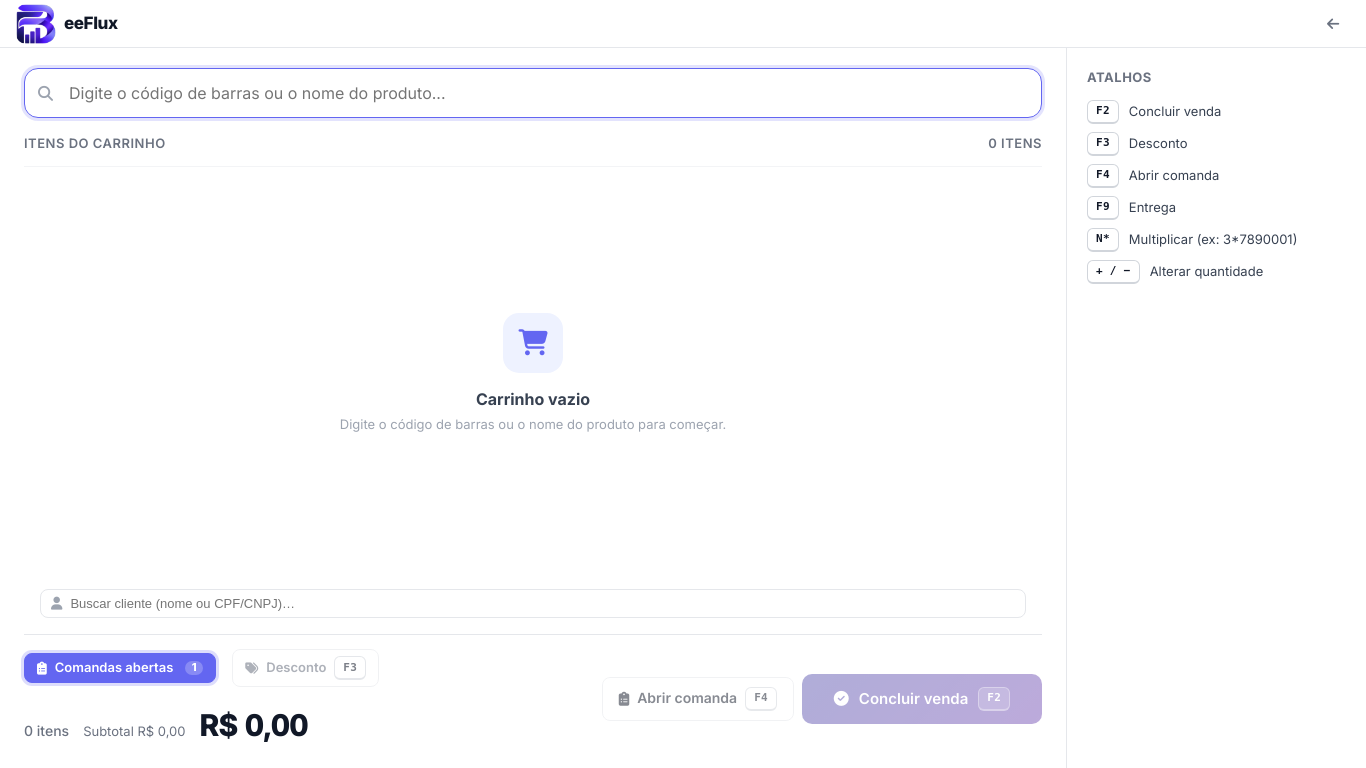
Test: PdvView — comandas abertas › seleciona comanda da lista e carrega os itens no carrinho
Click the button "Comandas abertas 1": click(120, 668) [24, 653, 216, 683]
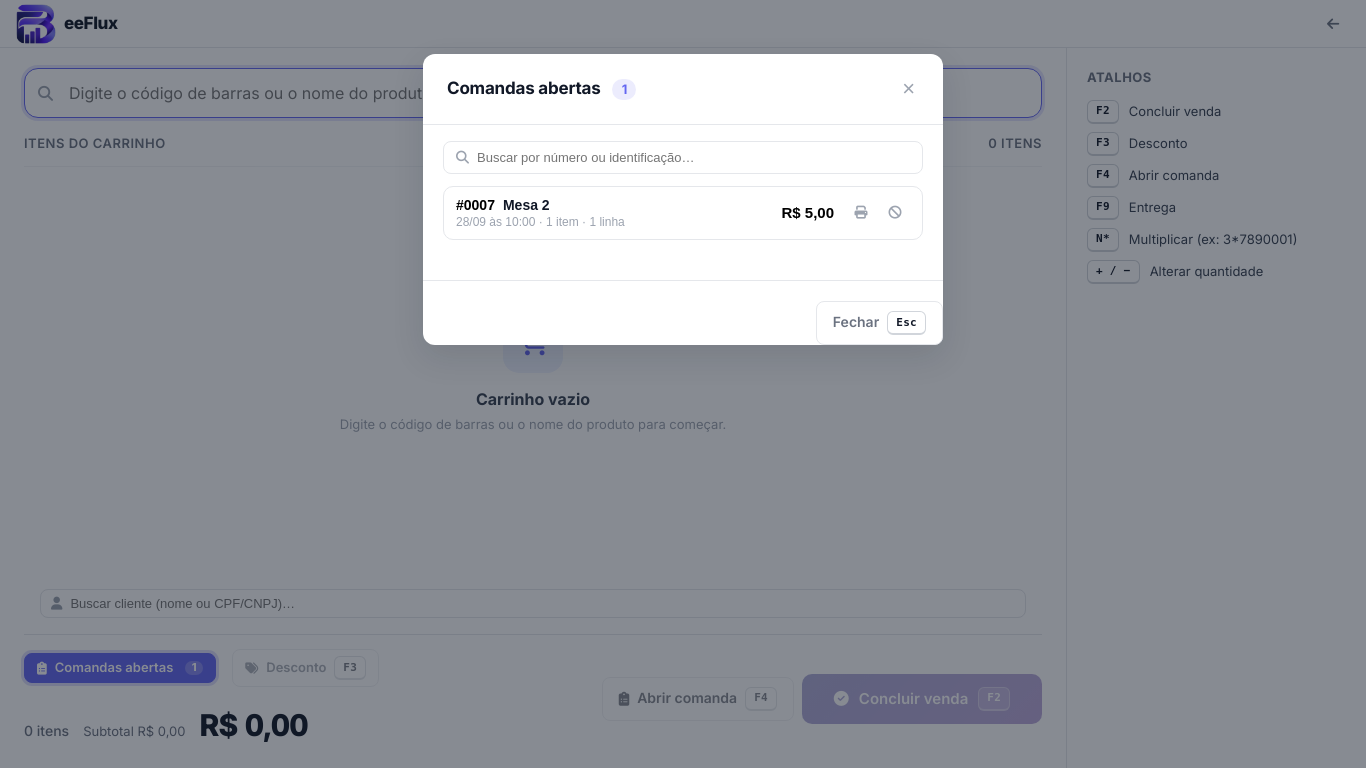
Expected: the number of buttons with class "tab-card" is 1
Click the button with class "tab-card": click(475, 205) [443, 186, 923, 240]
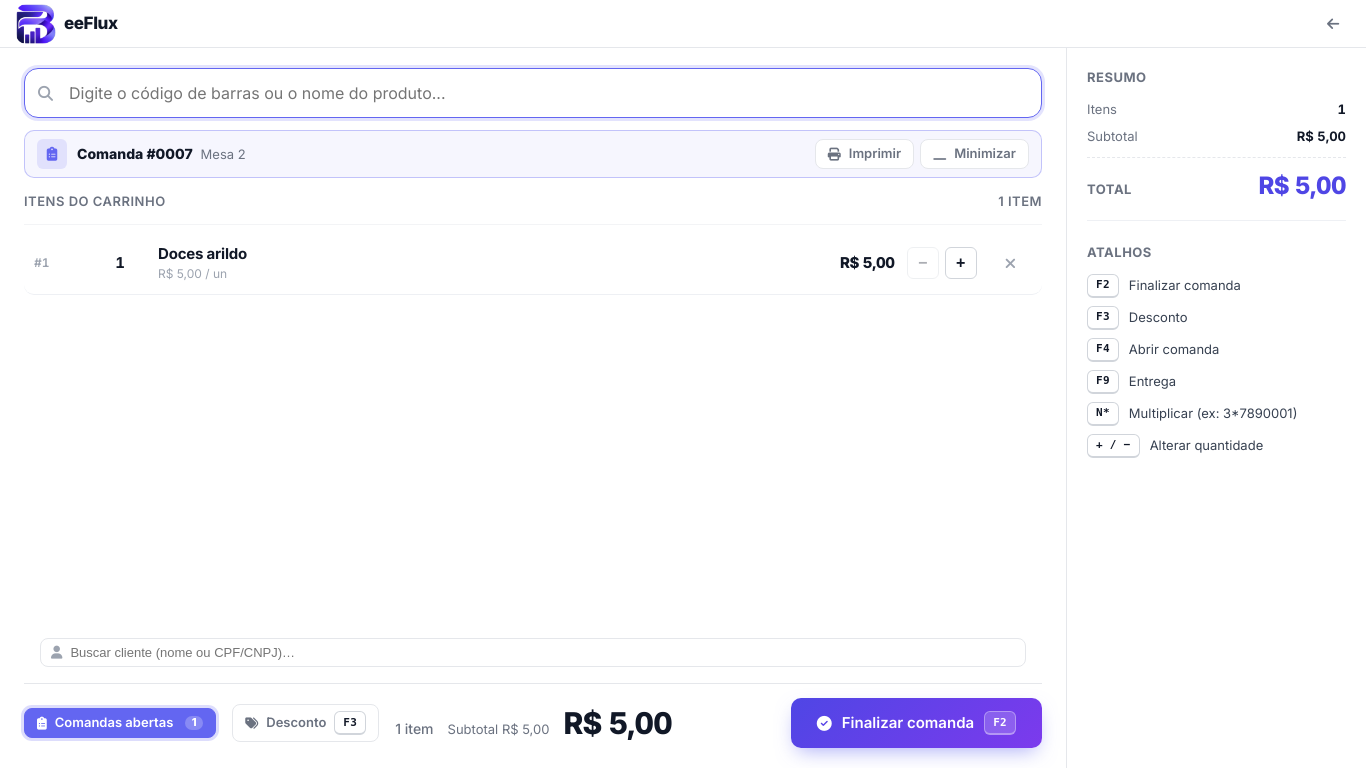
Expected: the element showing "Comanda #0007 Mesa 2 Imprimir Minimizar" is shown, [24, 130, 1042, 178]
Expected: the text "Doces arildo" is shown, [158, 244, 247, 263]
Expected: the text with id "cart-count" reads "1 item", [998, 193, 1042, 209]
